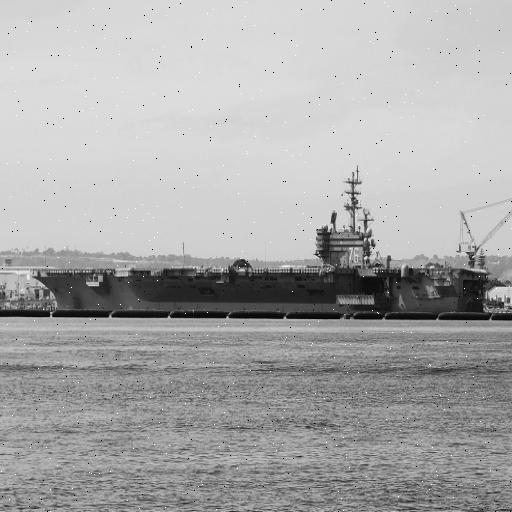Portanaves: (28, 156, 492, 322)
